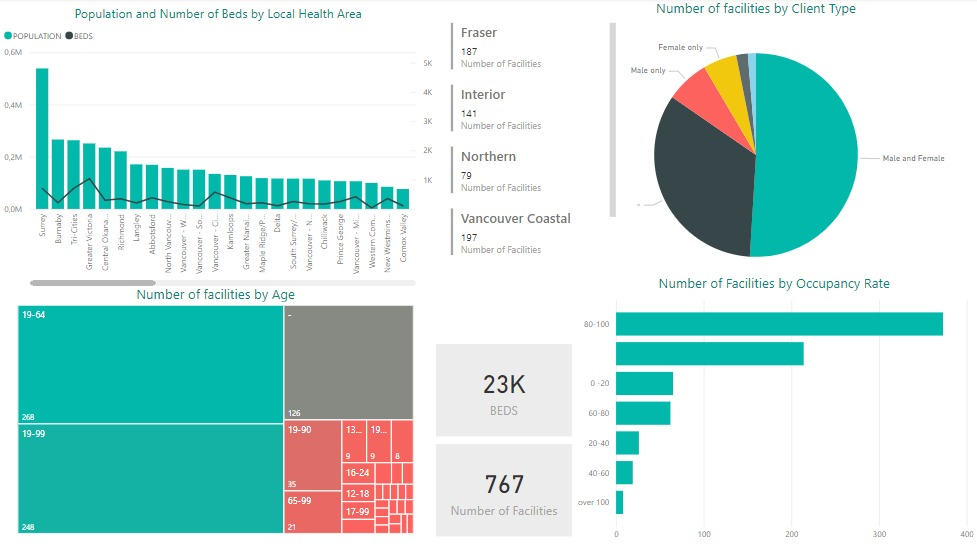

The page's visual inventory and layout, read from the dashboard file:
{"tool":"powerbi","page":{"name":"Page 4","canvas":[1280,720],"ordinal":3},"visuals":[{"type":"pieChart","title":"Number of facilities by Client Type","fields":{"Y":["CountNonNull(MergedData.FACILITY_TYPE)"],"Category":["MergedData.FACILITY_CLIENT_TYPE"]},"box":[698.7,0,581.3,388.1],"z":0},{"type":"treemap","title":"Number of facilities by Age","fields":{"Group":["MergedData.AGE"],"Values":["CountNonNull(MergedData.AGE)"]},"box":[18.3,374,527.8,331.6],"z":1000},{"type":"barChart","title":"Number of Facilities by Occupancy Rate","fields":{"Category":["MergedData.OCCUPANCY"],"Y":["CountNonNull(MergedData.OCCUPANCY)"]},"box":[748,359.9,532,359.9],"z":2000},{"type":"lineClusteredColumnComboChart","title":"Population and Number of Beds by Local Health Area","fields":{"Y2":["Sum(MergedData.BEDS)"],"Y":["Max(MergedData.POPULATION)"],"Category":["MergedData.LOCAL_HEALTH_AREA1"]},"box":[0,8.6,571,372.6],"z":3000},{"type":"card","fields":{"Values":["CountNonNull(MergedData.FACILITY_NAME)"]},"box":[570.1,584.3,177.8,121.4],"z":4000},{"type":"card","fields":{"Values":["Sum(MergedData.BEDS)"]},"box":[570.1,453,177.8,121.4],"z":5000},{"type":"multiRowCard","fields":{"Values":["DatabyArea.HEALTH_AUTHORITY1","Sum(DatabyArea.COUNT_OF_FACILITIES_BY_AREA)"]},"box":[584.8,27.6,226,331.2],"z":5001}]}

Visuals, with their boxes in screenshot pixels (x1, y1, x2, y2), scaled from the page's 1280x720 canvas onto the 977x546 screenshot:
"Number of facilities by Client Type" pieChart: x1=533, y1=0, x2=976, y2=294
"Number of facilities by Age" treemap: x1=14, y1=284, x2=417, y2=535
"Number of Facilities by Occupancy Rate" barChart: x1=571, y1=273, x2=976, y2=545
"Population and Number of Beds by Local Health Area" lineClusteredColumnComboChart: x1=0, y1=7, x2=436, y2=289
card - CountNonNull(MergedData.FACILITY_NAME): x1=435, y1=443, x2=571, y2=535
card - Sum(MergedData.BEDS): x1=435, y1=344, x2=571, y2=436
multiRowCard - DatabyArea.HEALTH_AUTHORITY1 x Sum(DatabyArea.COUNT_OF_FACILITIES_BY_AREA): x1=446, y1=21, x2=619, y2=272
